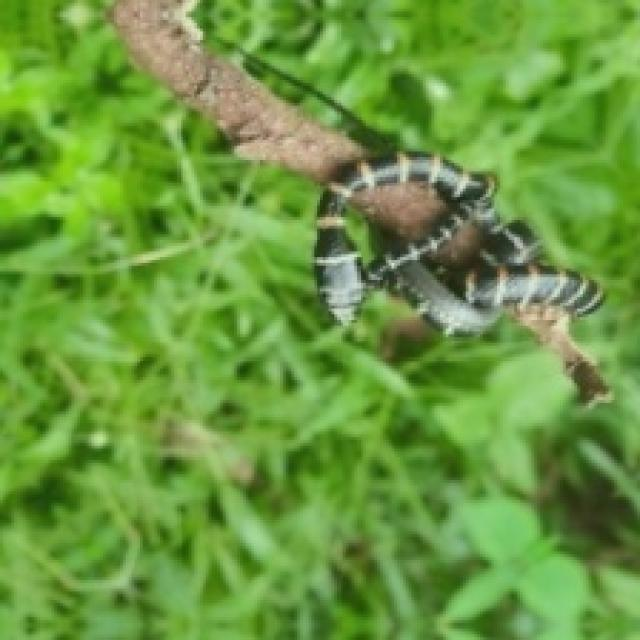paradise tree snake: (217, 103, 600, 366), (314, 154, 600, 337)
